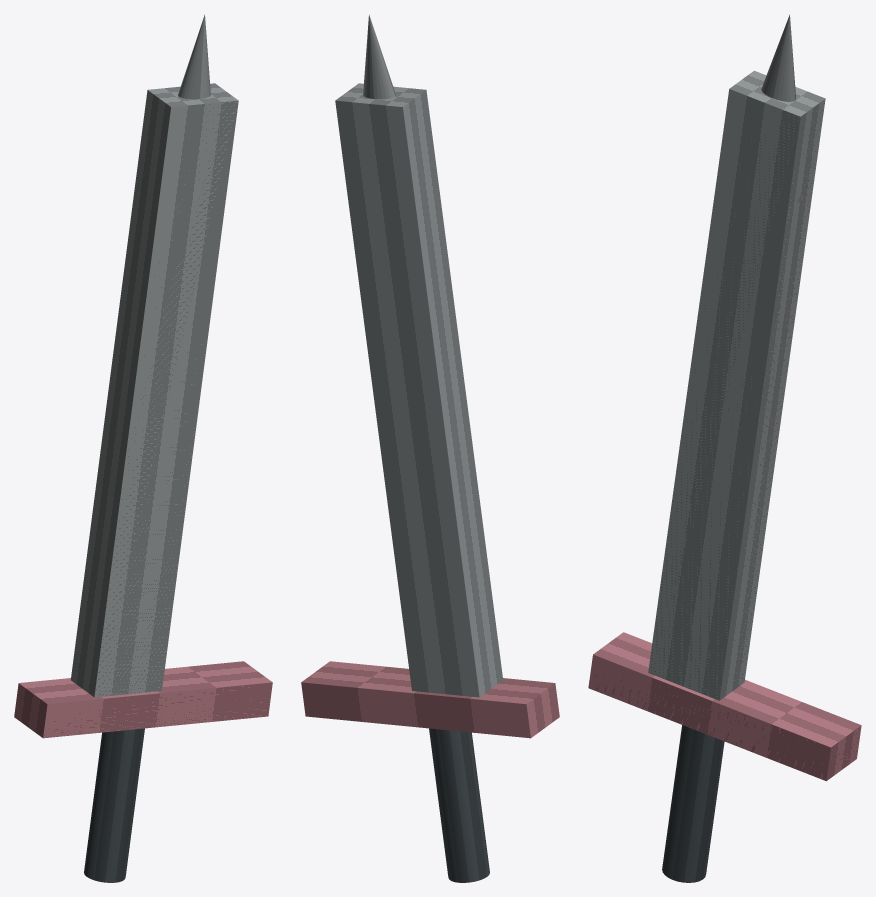
Rendered from schweigende_klinge.glb.
3 views of the same model, side by side, from view 1: azimuth 30°, elevation 25°; view 2: azimuth 150°, elevation 25°; view 3: azimuth 330°, elevation 25° (orthographic). The views are drawn at different scales.
Visible parts, largest first — view 1: longsword_blade, longsword_guard, longsword_grip, longsword_point; view 2: longsword_blade, longsword_guard, longsword_grip, longsword_point; view 3: longsword_blade, longsword_guard, longsword_grip, longsword_point.
Boxes of the visible parts, x1,y1,x2,y2 form: longsword_blade: (71,83,238,697); longsword_guard: (14,661,272,738); longsword_grip: (84,728,144,882); longsword_point: (178,14,210,99); longsword_blade: (335,83,502,697); longsword_guard: (301,661,559,738); longsword_grip: (429,728,489,882); longsword_point: (363,14,395,99); longsword_blade: (648,70,825,700); longsword_guard: (588,632,861,781); longsword_grip: (662,725,724,882); longsword_point: (761,14,803,203).
Bounding box in the file's own units: 0.5049 × 1.76 × 0.11.
Materials: 3 (3 with a texture image).
